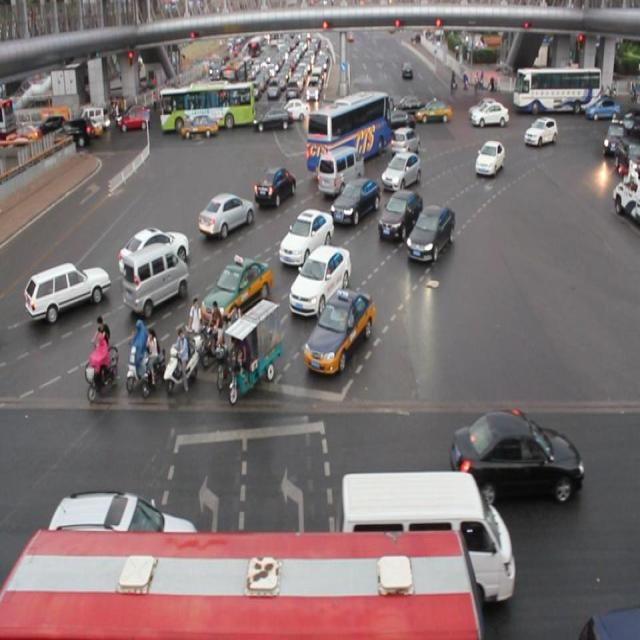car: (451, 406, 583, 505), (53, 489, 199, 554), (302, 288, 375, 372), (203, 250, 272, 326), (25, 262, 109, 323), (287, 241, 351, 315), (119, 224, 188, 279), (278, 206, 332, 267), (196, 190, 255, 240), (407, 207, 454, 262), (329, 178, 382, 226), (377, 186, 421, 236), (380, 148, 421, 192), (252, 168, 296, 206), (472, 139, 504, 174), (523, 116, 558, 148), (389, 125, 422, 157)
truck: (342, 465, 516, 602), (123, 243, 190, 316), (317, 146, 364, 198)
van: (1, 525, 478, 640), (306, 94, 391, 170)
